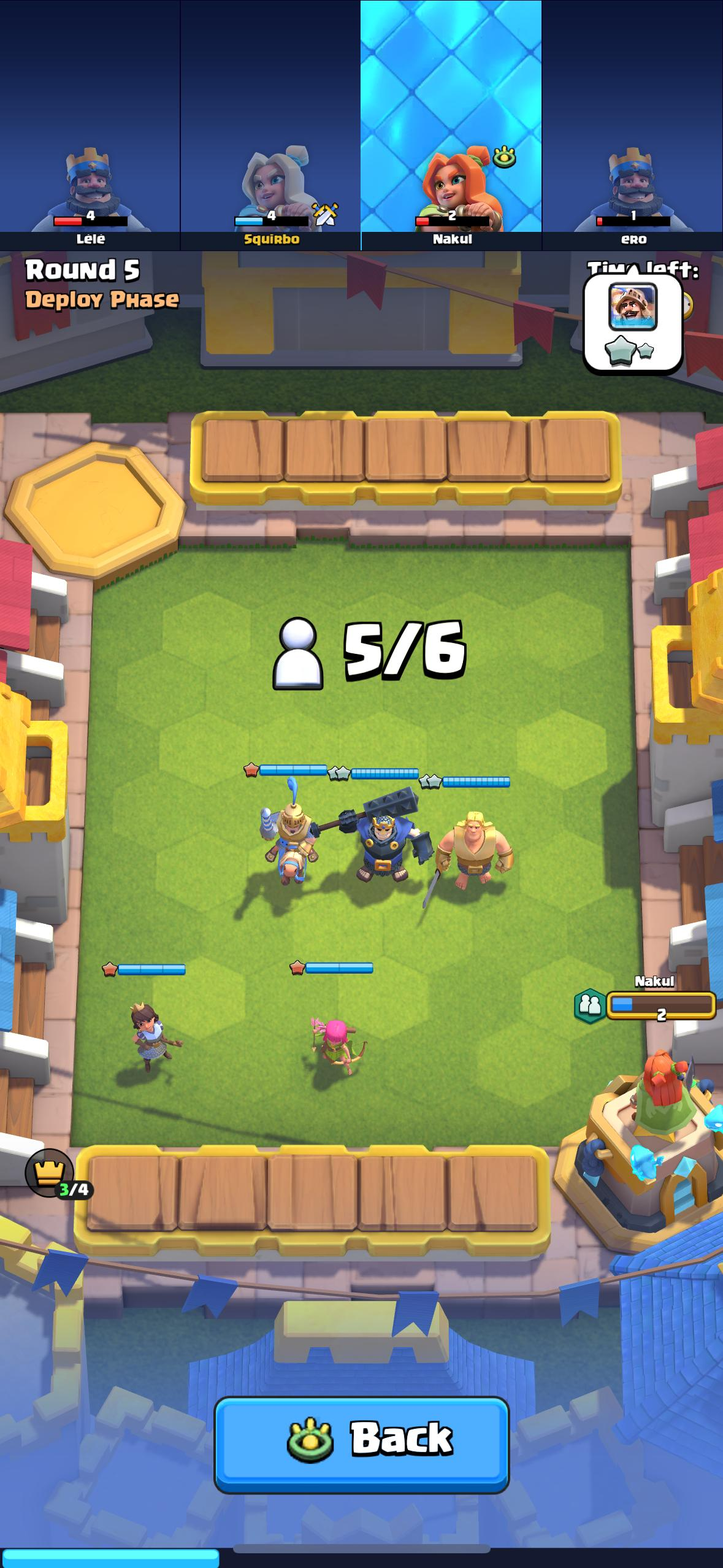archer: (307, 1007, 370, 1075)
golden: (440, 804, 518, 897)
king: (322, 784, 426, 884)
prince: (253, 783, 322, 887)
princess: (127, 993, 181, 1072)
